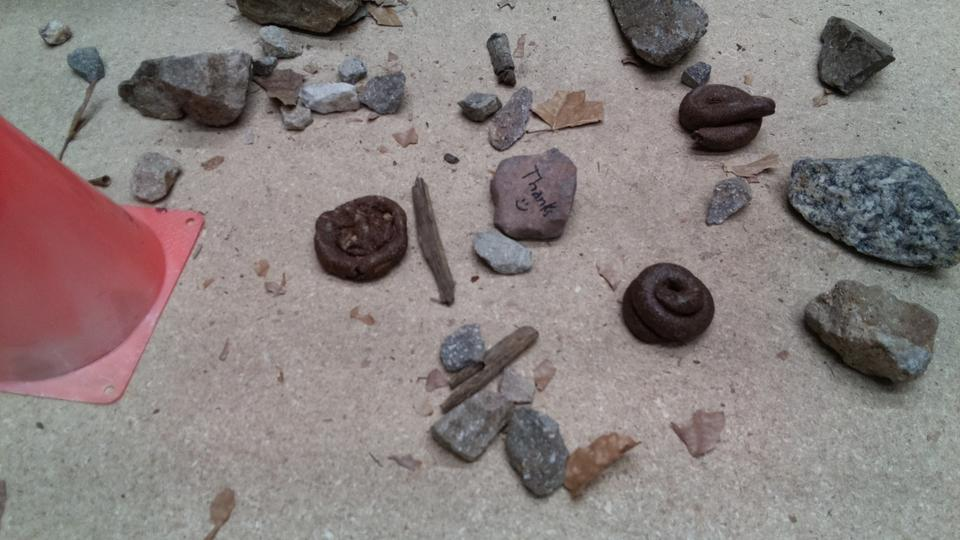poop: (313, 193, 408, 284), (619, 261, 717, 349), (675, 83, 777, 153)
